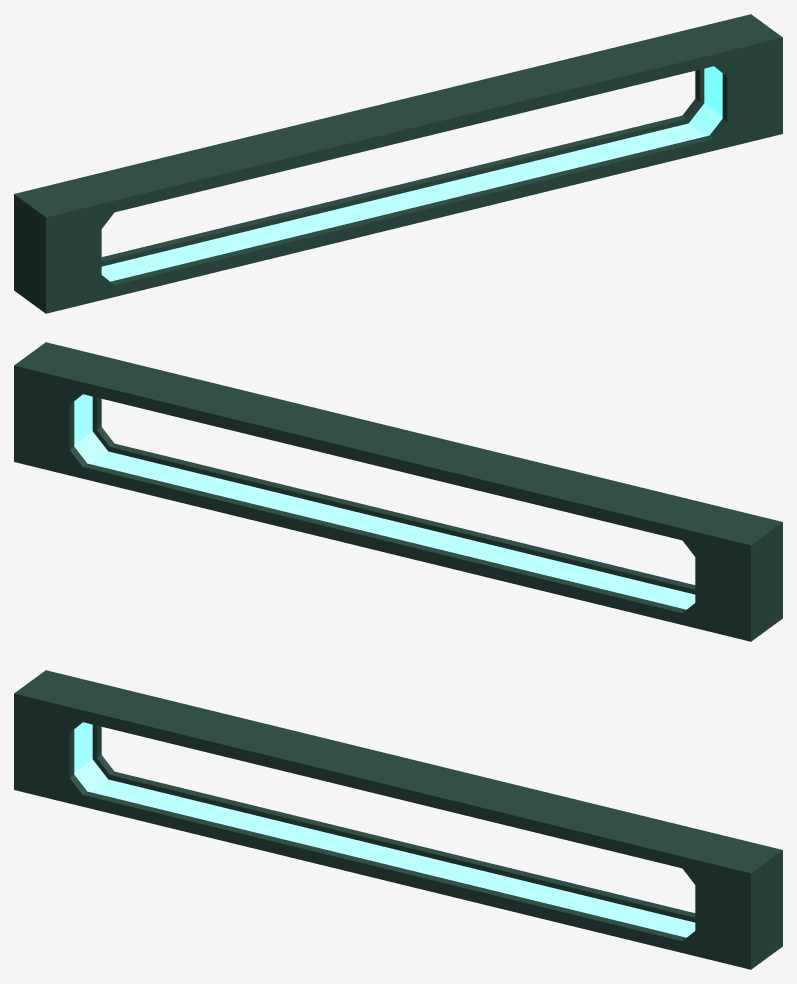
File: W2_WallWindow1A_4m_Top.fbx
3 renders of one model, top to bottom at view 1: azimuth 30°, elevation 25°; view 2: azimuth 150°, elevation 25°; view 3: azimuth 330°, elevation 25°, orthographic.
Visible parts, largest first — view 1: W2_WallWindow1A_4m_Top.001; view 2: W2_WallWindow1A_4m_Top.001; view 3: W2_WallWindow1A_4m_Top.001.
Part boxes in pixels (x1,y1,x2,y2): W2_WallWindow1A_4m_Top.001: [14, 14, 782, 313]; W2_WallWindow1A_4m_Top.001: [14, 342, 782, 641]; W2_WallWindow1A_4m_Top.001: [14, 670, 782, 969].
Size of the model in its own units: 4 by 0.5 by 0.3.
